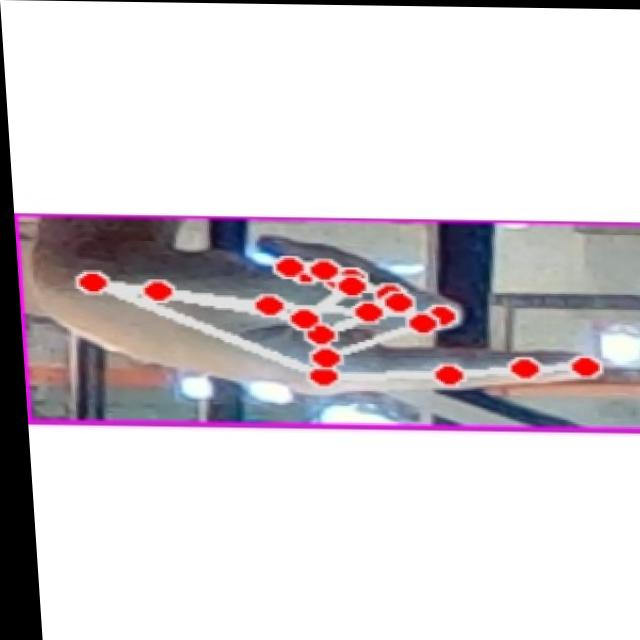G: (20, 233, 639, 419)
